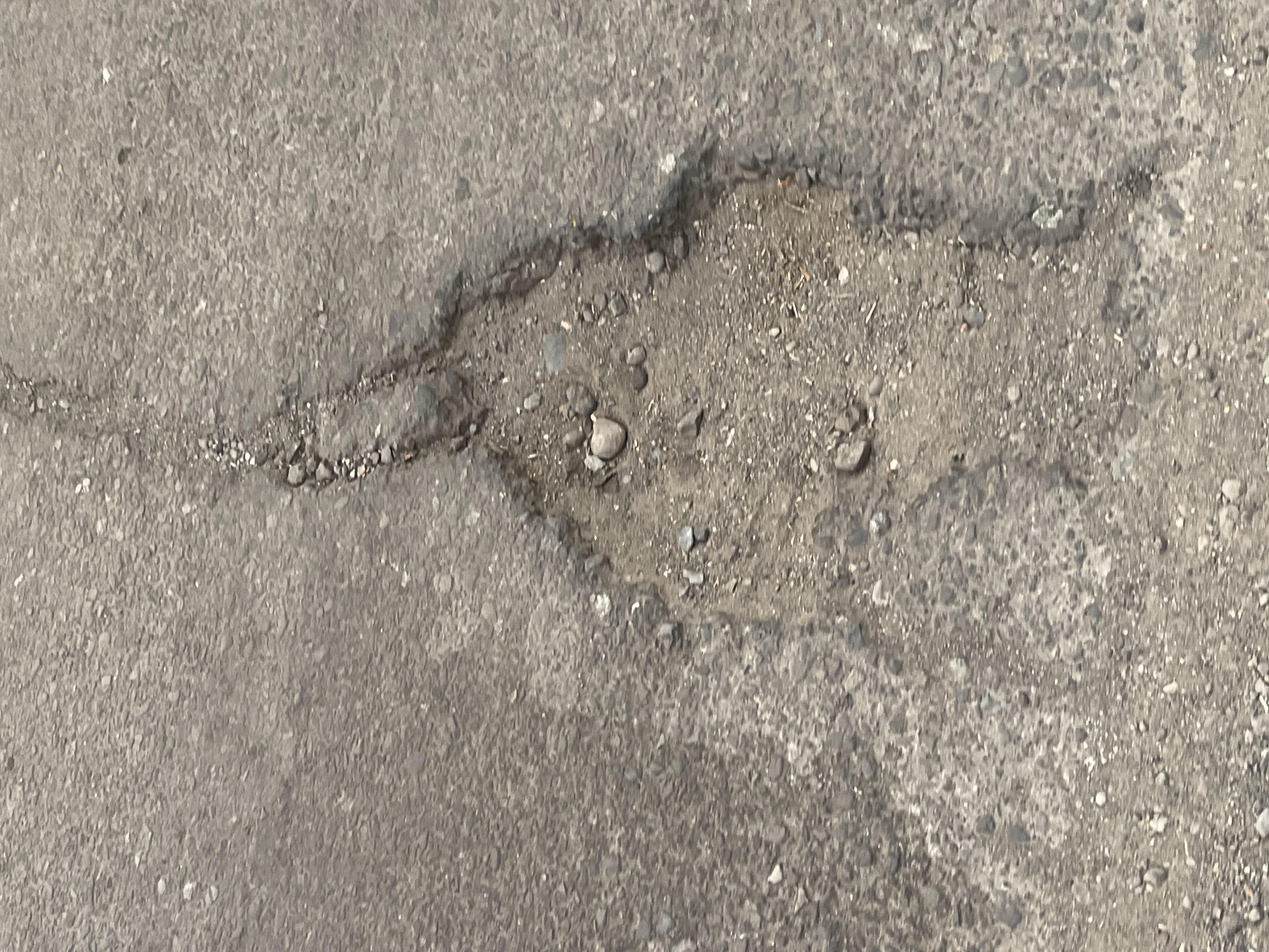BACHE: (434, 148, 1194, 637)
GRIETA: (2, 349, 448, 482)
